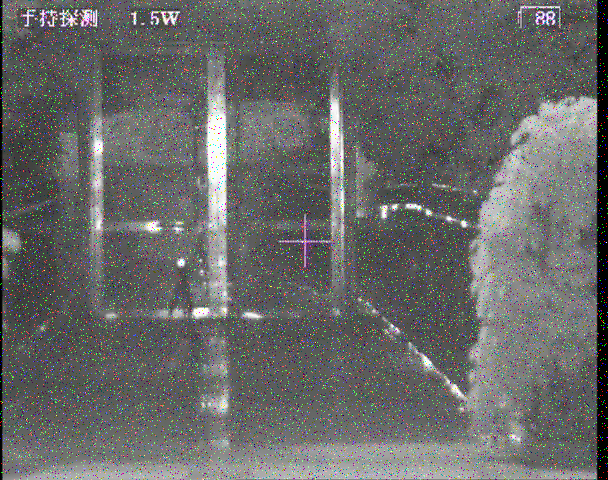my: (175, 258, 186, 268)
